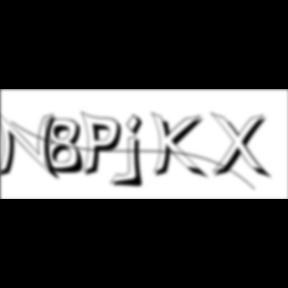8: (46, 117, 90, 176)
K: (152, 110, 210, 182)
N: (0, 109, 64, 183)
P: (82, 110, 128, 180)
X: (210, 112, 274, 182)
j: (124, 113, 150, 191)
